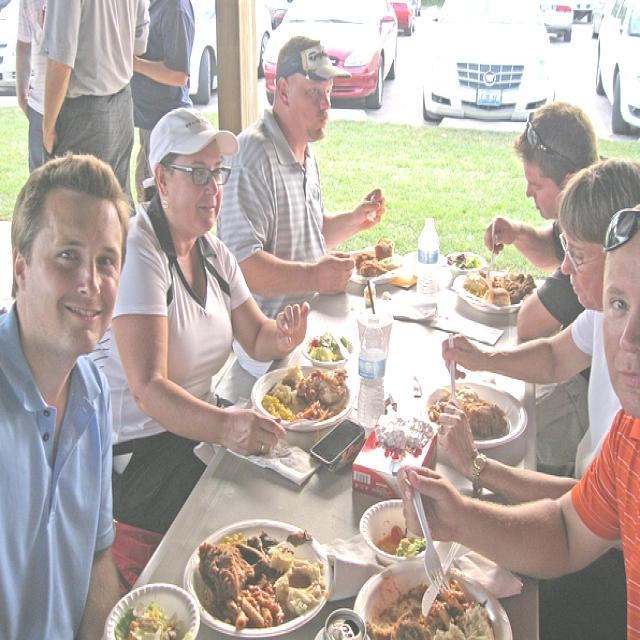Vehicle: (419, 0, 560, 123), (262, 0, 398, 112), (182, 0, 274, 102), (593, 0, 640, 133), (273, 0, 347, 30), (0, 0, 20, 90), (587, 0, 628, 37), (533, 1, 571, 38), (376, 0, 414, 36), (565, 0, 599, 23), (0, 0, 26, 18), (404, 0, 422, 16)
